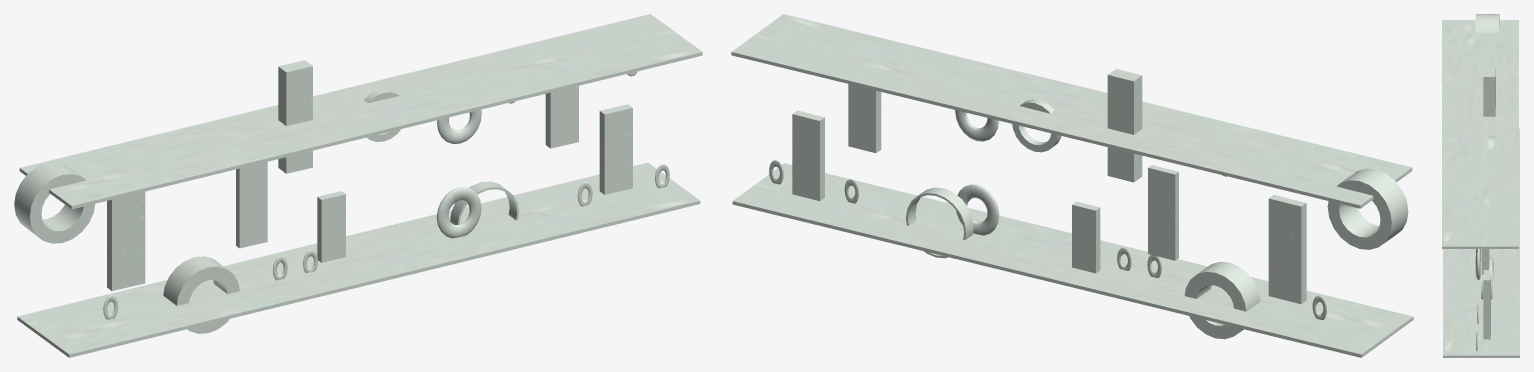
Rendered from room1.obj.
The picture shows the model from 3 angles, left to right: view 1: azimuth 30°, elevation 25°; view 2: azimuth 150°, elevation 25°; view 3: azimuth 270°, elevation 25°; orthographic projection. The views are drawn at different scales.
Parts seen in each view (by area): view 1: room1:polySurface57; view 2: room1:polySurface57; view 3: room1:polySurface57.
Part boxes in pixels (x1,y1,x2,y2): room1:polySurface57: (14, 14, 702, 357); room1:polySurface57: (731, 14, 1413, 357); room1:polySurface57: (1442, 14, 1519, 357).
Bounding box in the file's own units: 168 × 58.62 × 23.68.
1 material, 1 textured.
